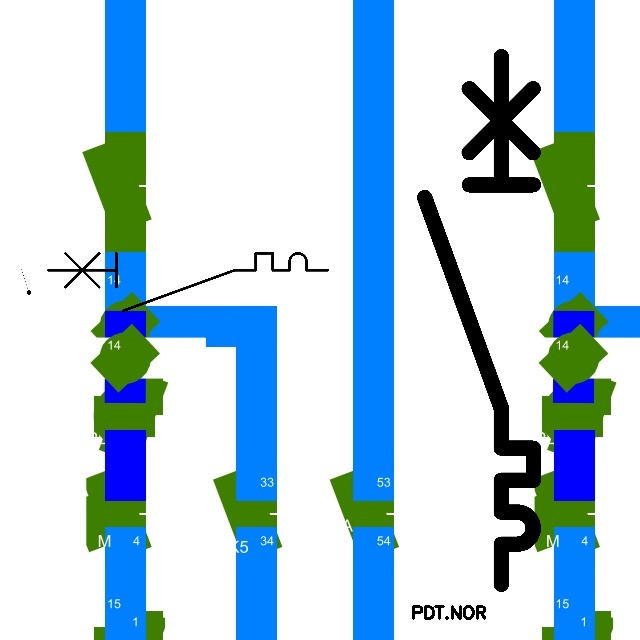interruptor_termomagnetico: (411, 43, 547, 598), (41, 246, 335, 318)
